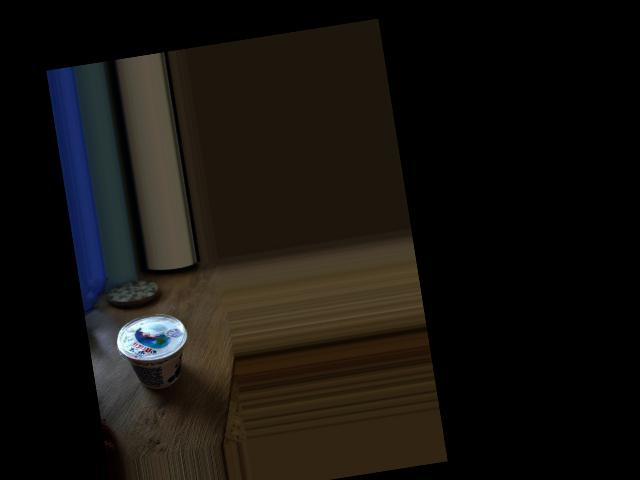cotage: (124, 307, 198, 403)
